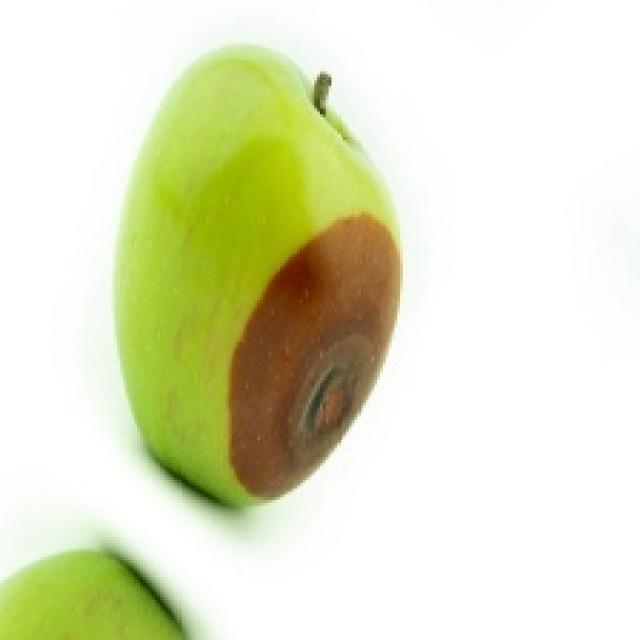rotten_apple: (114, 45, 403, 502)
